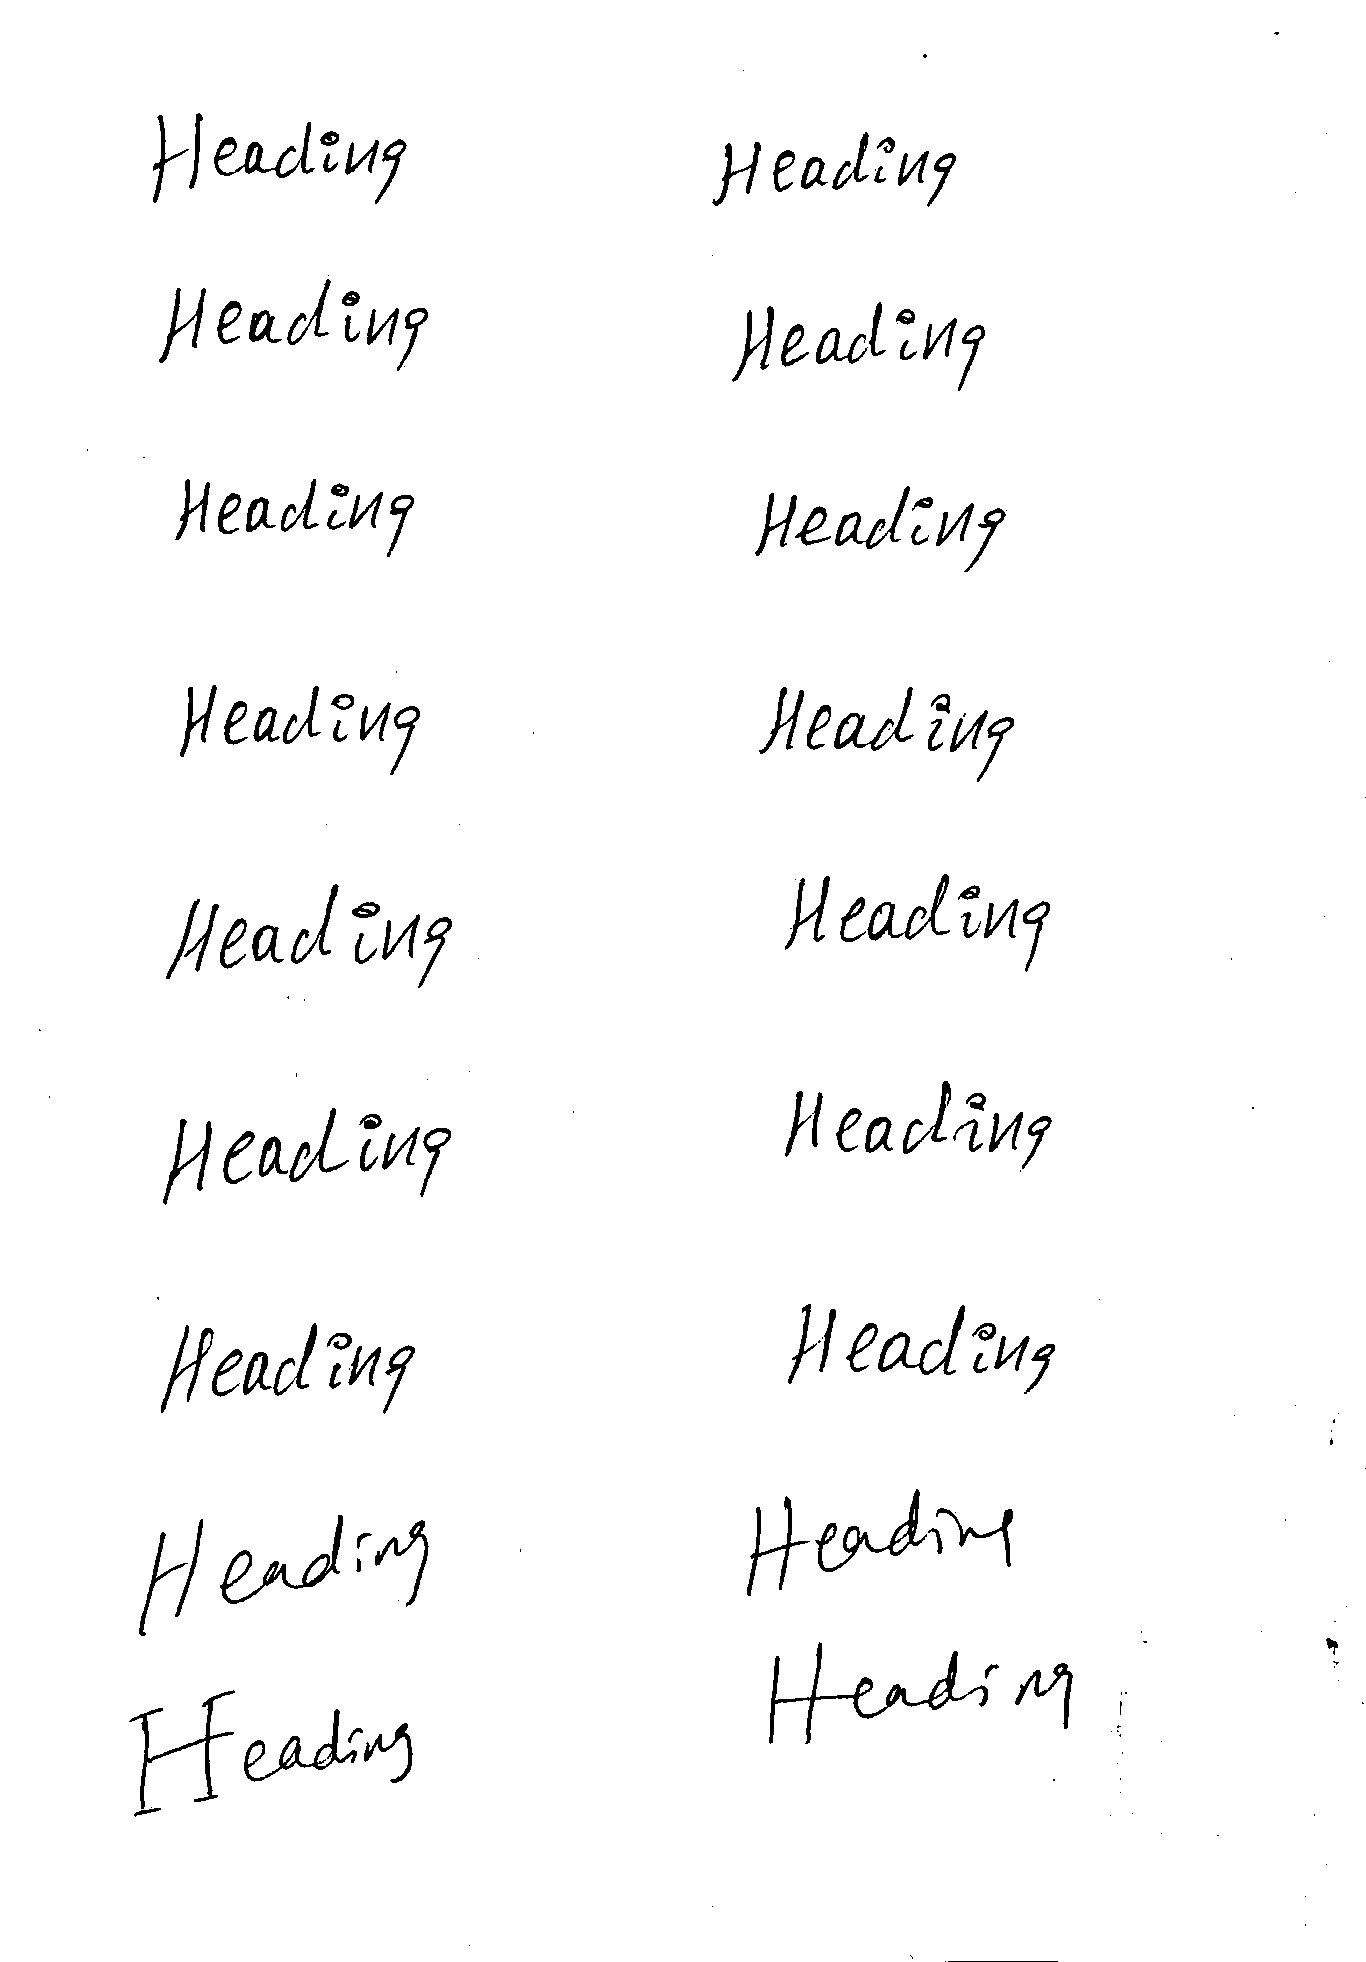Heading: (127, 1688, 418, 1820), (136, 1510, 429, 1640), (764, 1638, 1077, 1747), (163, 880, 453, 991), (743, 1486, 1017, 1598), (160, 1106, 450, 1211), (783, 865, 1051, 974), (157, 273, 431, 373), (157, 1318, 419, 1422), (781, 1076, 1054, 1172), (148, 110, 412, 209), (758, 681, 1016, 781), (783, 1302, 1057, 1394), (729, 297, 987, 391), (176, 681, 425, 775), (755, 485, 1010, 570), (171, 471, 418, 558), (710, 130, 957, 212)
